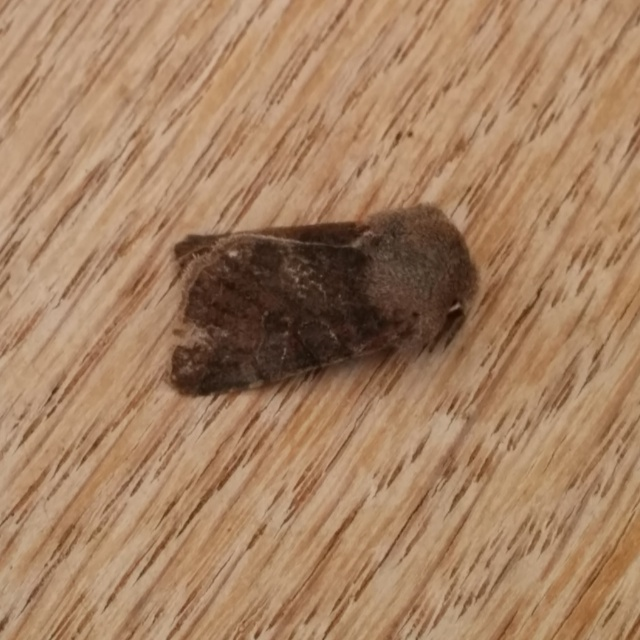Moths and butterflies: (162, 193, 492, 403)
